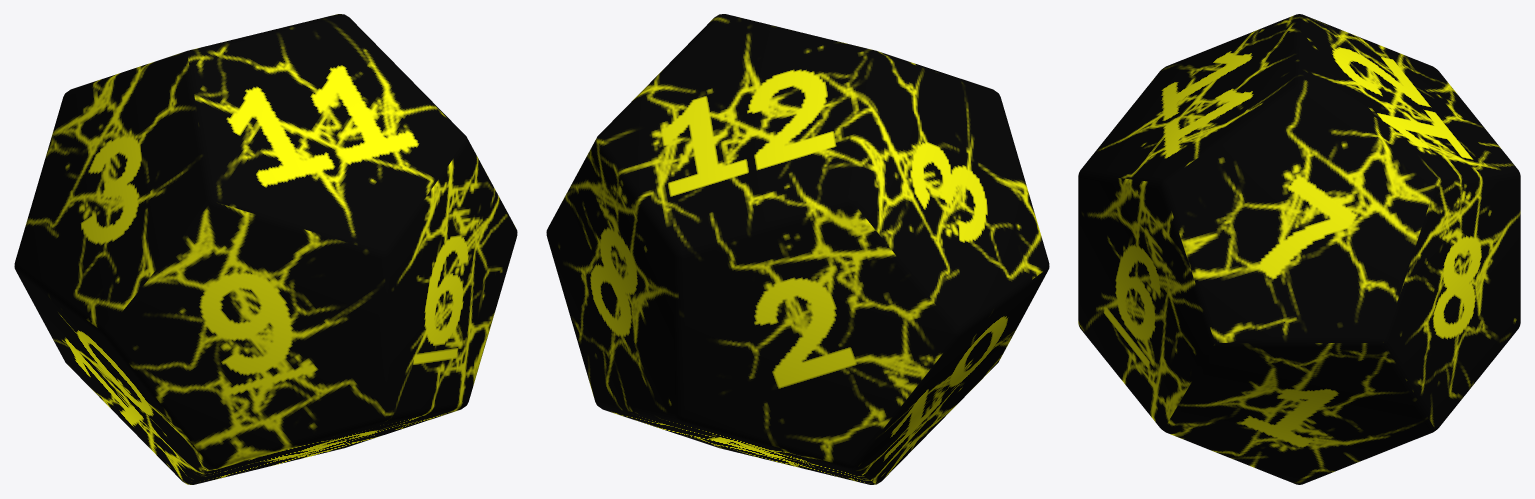
3 views of the same model, side by side, from view 1: azimuth 30°, elevation 25°; view 2: azimuth 150°, elevation 25°; view 3: azimuth 270°, elevation 25° (orthographic). The views are drawn at different scales.
Parts seen in each view (by area): view 1: 12Yellow_12Yellow_0; view 2: 12Yellow_12Yellow_0; view 3: 12Yellow_12Yellow_0.
Part boxes in pixels (x1,y1,x2,y2): 12Yellow_12Yellow_0: (14, 14, 517, 484); 12Yellow_12Yellow_0: (546, 14, 1049, 484); 12Yellow_12Yellow_0: (1078, 14, 1520, 484).
Bounding box in the file's own units: 1.85 × 1.85 × 1.85.
1 material, 1 textured.
